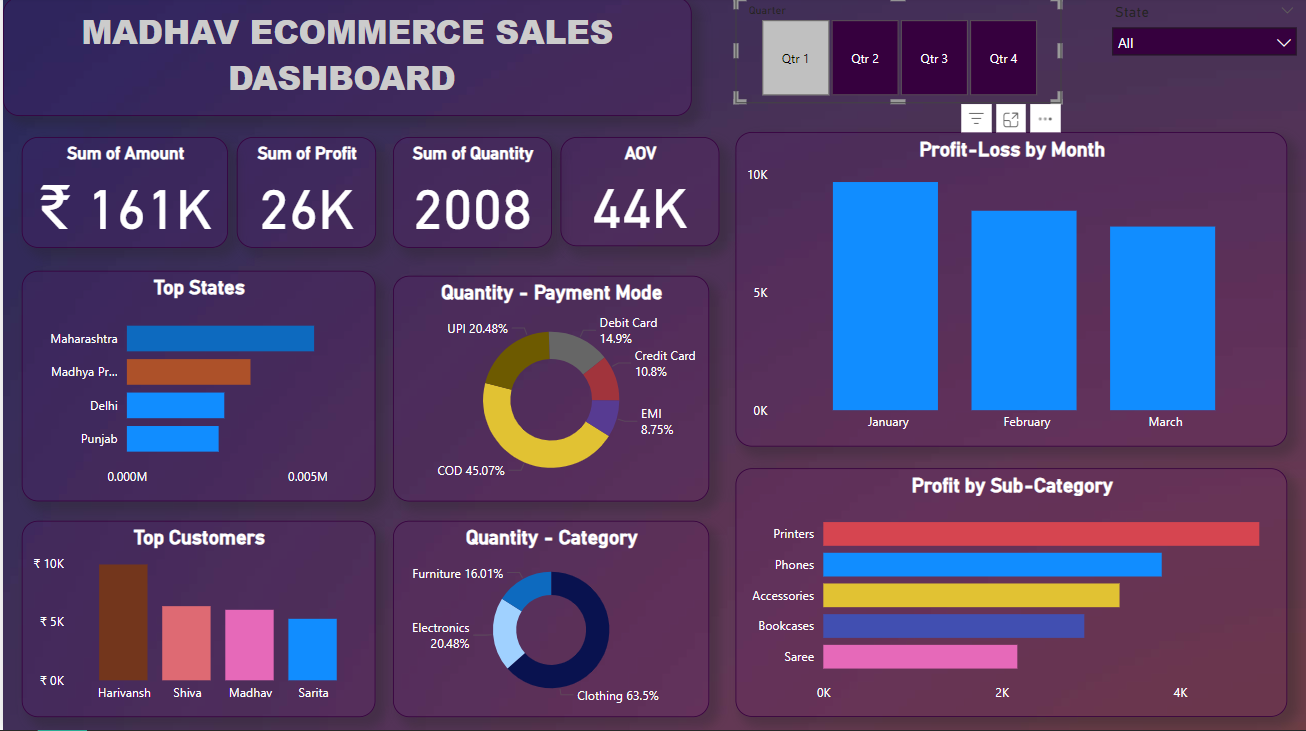

Layout of this report page (visuals, bound fields, positions):
{"tool":"powerbi","page":{"name":"Page 1","canvas":[1280,720],"ordinal":0},"visuals":[{"type":"textbox","box":[0,0,675.9,116.5],"z":0},{"type":"columnChart","title":" Profit-Loss by Month","fields":{"Y":["Details.Profit"],"Category":["Orders (1).Order Date.Variation.Date Hierarchy.Month"]},"box":[719,132.9,541.8,308.9],"z":1},{"type":"columnChart","title":"Top Customers","fields":{"Category":["Orders (1).CustomerName"],"Y":["Details.Amount"]},"box":[19,513.9,346.8,192.4],"z":2},{"type":"donutChart","title":"Quantity - Category","fields":{"Category":["Details.Category"],"Y":["Details.Category"]},"box":[382.3,513.9,310.1,192.4],"z":3},{"type":"donutChart","title":"Quantity - Payment Mode ","fields":{"Category":["Details.PaymentMode"],"Y":["Details.PaymentMode"]},"box":[382.3,273.4,310.1,221.5],"z":4},{"type":"barChart","title":"Top States ","fields":{"Category":["Orders (1).State"],"Y":["Details.Profit"]},"box":[19,268.4,346.8,226.6],"z":5},{"type":"barChart","title":"Profit by Sub-Category","fields":{"Category":["Details.Sub-Category"],"Y":["Details.Profit"]},"box":[719,462,541.8,244.3],"z":6},{"type":"card","title":"Sum of Amount","fields":{"Values":["Details.Sum Of Amount"]},"box":[19,138,202.5,108.9],"z":7},{"type":"card","title":"Sum of Profit","fields":{"Values":["Details.Sum of Profit"]},"box":[229.1,138,136.7,108.9],"z":8},{"type":"card","title":"Sum of Quantity","fields":{"Values":["Details.Sum of Quantity"]},"box":[382.3,138,155.7,108.9],"z":9},{"type":"slicer","fields":{"Values":["Orders (1).Order Date.Variation.Date Hierarchy.Quarter"]},"box":[719,1.3,320.3,102.5],"z":10},{"type":"card","title":"AOV","fields":{"Values":["Details.AOV1"]},"box":[546.8,138,155.7,107.6],"z":11},{"type":"slicer","fields":{"Values":["Orders (1).State"]},"box":[1078.5,1.3,201.3,101.3],"z":12}]}

Visuals, with their boxes in screenshot pixels (x1, y1, x2, y2), scaled from the page's 1280x720 canvas onto the 1306x731 screenshot:
textbox: [0, 0, 690, 118]
" Profit-Loss by Month" columnChart: [734, 135, 1286, 449]
"Top Customers" columnChart: [19, 522, 373, 717]
"Quantity - Category" donutChart: [390, 522, 706, 717]
"Quantity - Payment Mode " donutChart: [390, 278, 706, 502]
"Top States " barChart: [19, 273, 373, 503]
"Profit by Sub-Category" barChart: [734, 469, 1286, 717]
"Sum of Amount" card: [19, 140, 226, 251]
"Sum of Profit" card: [234, 140, 373, 251]
"Sum of Quantity" card: [390, 140, 549, 251]
slicer - Orders (1).Order Date.Variation.Date Hierarchy.Quarter: [734, 1, 1060, 105]
"AOV" card: [558, 140, 717, 249]
slicer - Orders (1).State: [1100, 1, 1305, 104]
